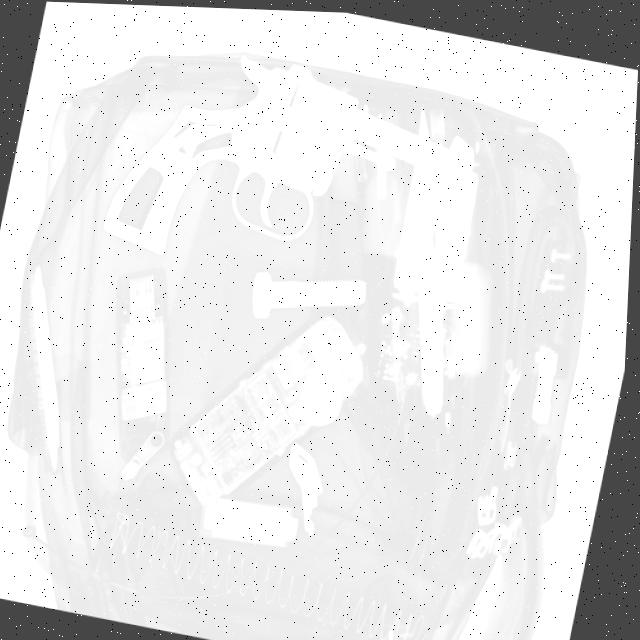pistol: (99, 32, 485, 309)
